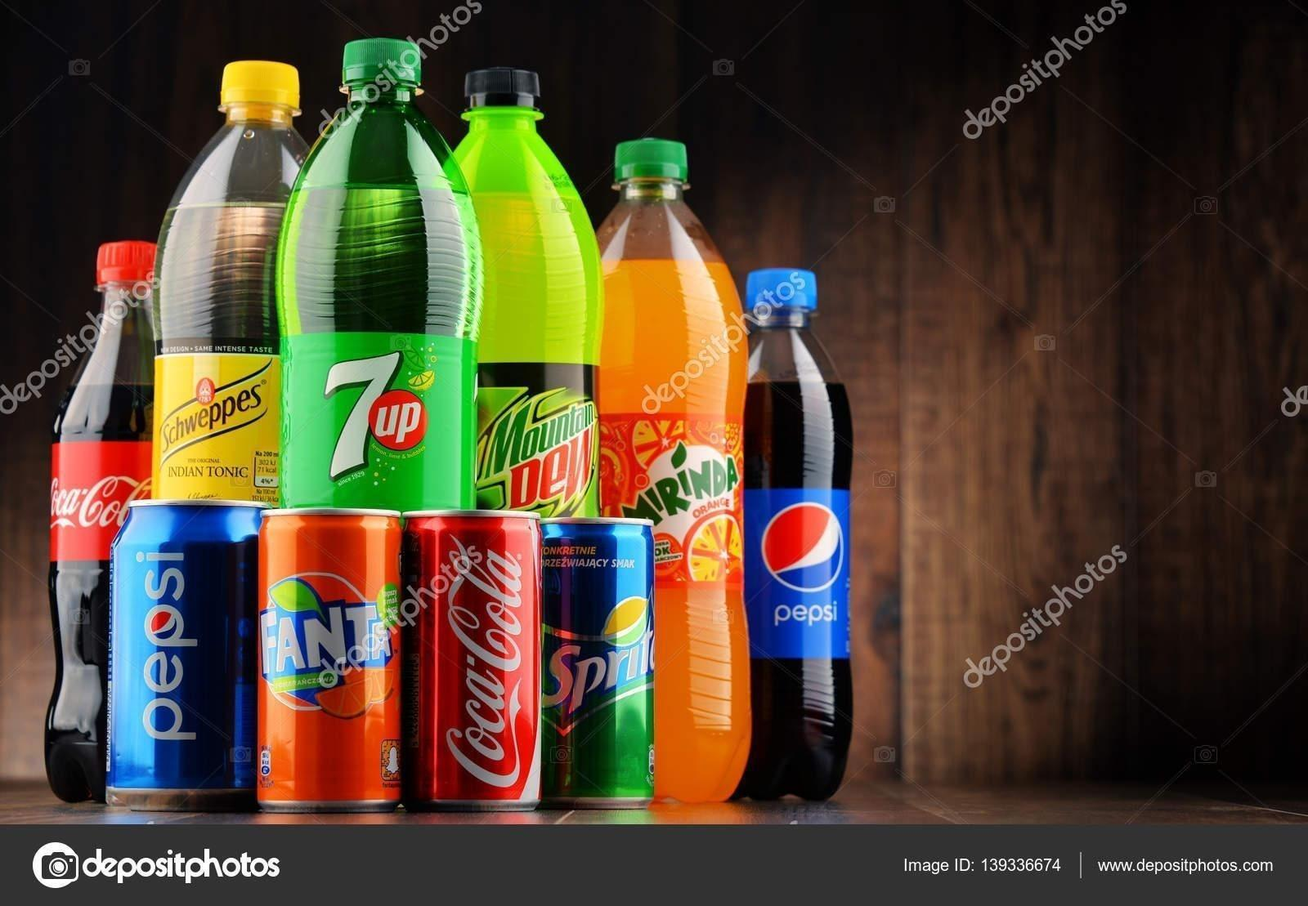bottle-plastic: (263, 29, 488, 516), (597, 127, 756, 805), (37, 230, 170, 809), (146, 51, 309, 490), (456, 59, 614, 508), (739, 261, 862, 805)
tin can: (255, 498, 406, 818), (104, 495, 253, 819), (405, 500, 551, 815), (543, 508, 658, 815)
